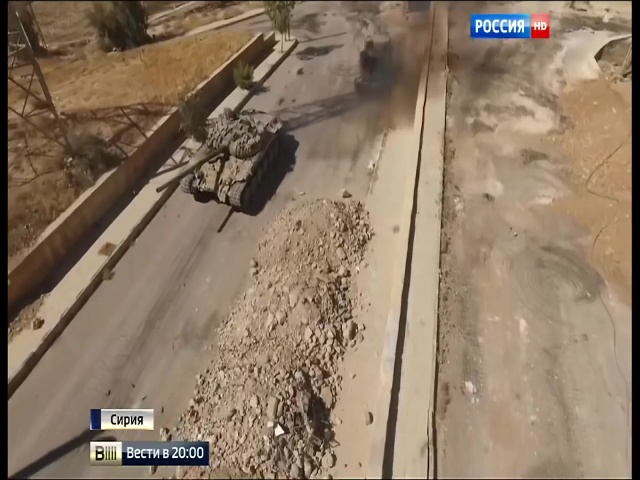vehicle: (186, 108, 293, 209)
